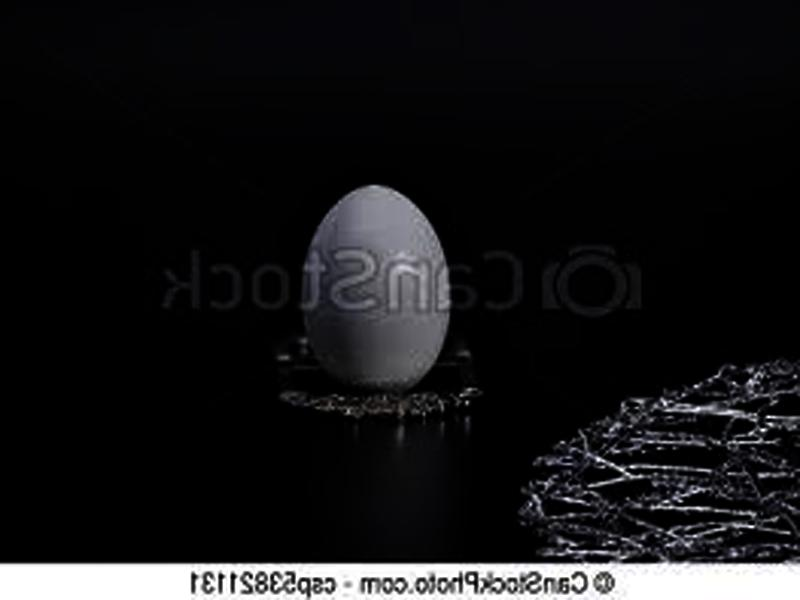Eggs: (300, 184, 452, 394)
